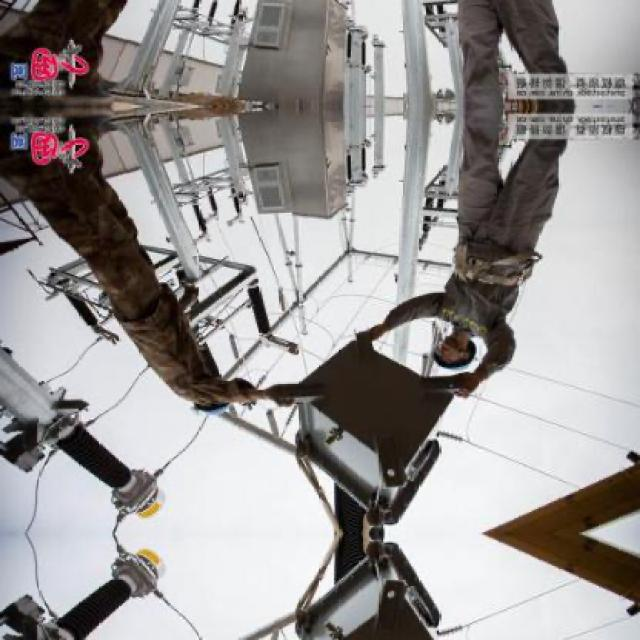con casco: (404, 318, 511, 391), (186, 371, 255, 431)
